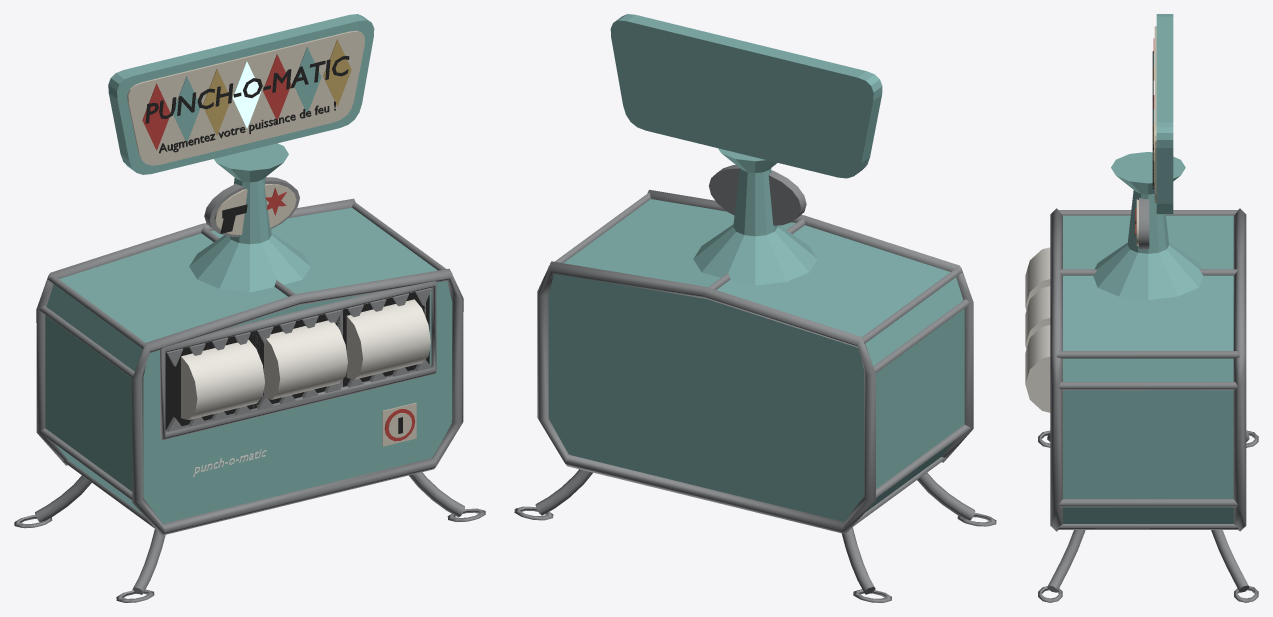
File: pap_machine.glb
3 renders of one model, left to right at view 1: azimuth 30°, elevation 25°; view 2: azimuth 150°, elevation 25°; view 3: azimuth 270°, elevation 25°, orthographic. The views are drawn at different scales.
Visible parts, largest first — view 1: paint_teal__pap_machine__solid, steel__pap_machine__solid, chalk__pap_machine__solid, paper__pap_machine__ns, rubber__pap_machine__ns, steel__pap_machine__ns, rubber__pap_machine__solid, paint_red__pap_machine__ns, brass__pap_machine__ns, paint_teal__pap_machine__ns, glow_blue__pap_machine__ns; view 2: paint_teal__pap_machine__solid, steel__pap_machine__solid; view 3: paint_teal__pap_machine__solid, steel__pap_machine__solid, chalk__pap_machine__solid, paper__pap_machine__ns.
Boxes of the visible parts, <box> form: paint_teal__pap_machine__solid: <box>45,14,452,523</box>; steel__pap_machine__solid: <box>14,177,485,602</box>; chalk__pap_machine__solid: <box>181,299,430,419</box>; paper__pap_machine__ns: <box>127,30,416,446</box>; rubber__pap_machine__ns: <box>145,55,402,433</box>; steel__pap_machine__ns: <box>166,288,431,431</box>; rubber__pap_machine__solid: <box>165,292,429,429</box>; paint_red__pap_machine__ns: <box>142,54,415,441</box>; brass__pap_machine__ns: <box>203,39,351,135</box>; paint_teal__pap_machine__ns: <box>173,47,321,141</box>; glow_blue__pap_machine__ns: <box>232,61,261,128</box>; paint_teal__pap_machine__solid: <box>548,14,964,521</box>; steel__pap_machine__solid: <box>514,165,996,602</box>; paint_teal__pap_machine__solid: <box>1063,14,1233,523</box>; steel__pap_machine__solid: <box>1038,197,1258,602</box>; chalk__pap_machine__solid: <box>1025,247,1050,412</box>; paper__pap_machine__ns: <box>1136,26,1156,245</box>.
Size of the model in its own units: 1.96 by 2.38 by 1.12.
